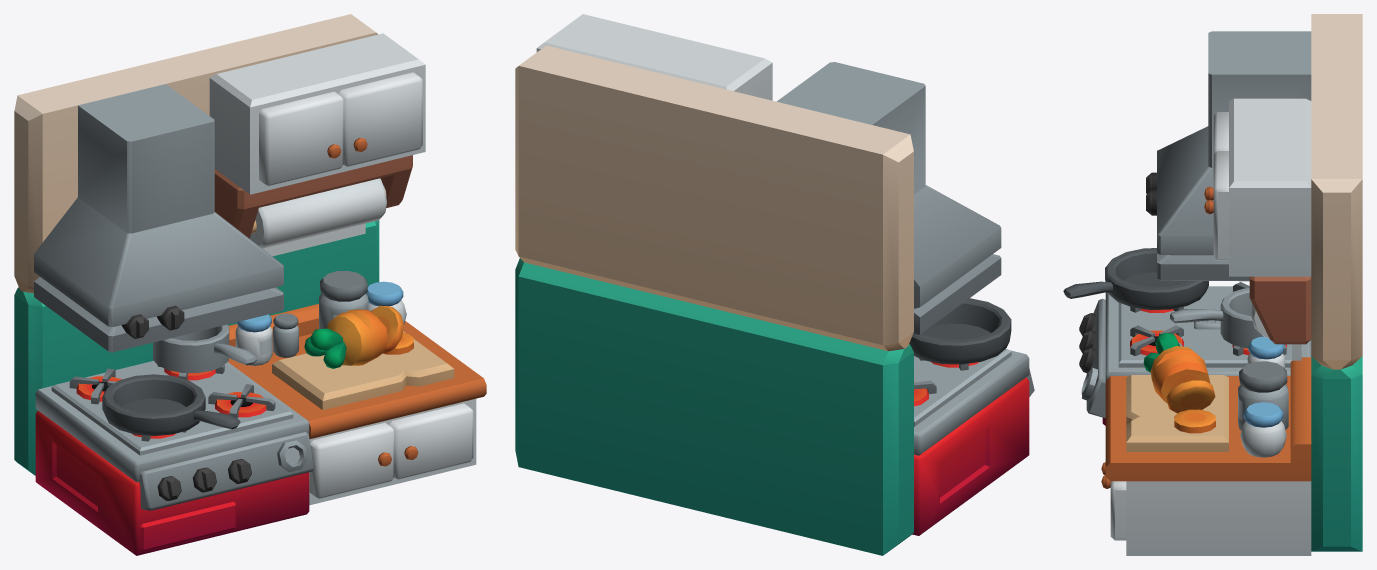
The model's file is wall_decorated.obj.
3 renders of one model, left to right at view 1: azimuth 30°, elevation 25°; view 2: azimuth 150°, elevation 25°; view 3: azimuth 270°, elevation 25°, orthographic. The views are drawn at different scales.
Parts seen in each view (by area): view 1: wall_decorated_Cube.022; view 2: wall_decorated_Cube.022; view 3: wall_decorated_Cube.022.
Boxes of the visible parts, bbox=[...] form: wall_decorated_Cube.022: bbox=[14, 14, 486, 555]; wall_decorated_Cube.022: bbox=[515, 14, 1034, 555]; wall_decorated_Cube.022: bbox=[1063, 14, 1362, 555].
Bounding box in the file's own units: 4.01 × 4 × 2.91.
Materials: 1 (1 with a texture image).
